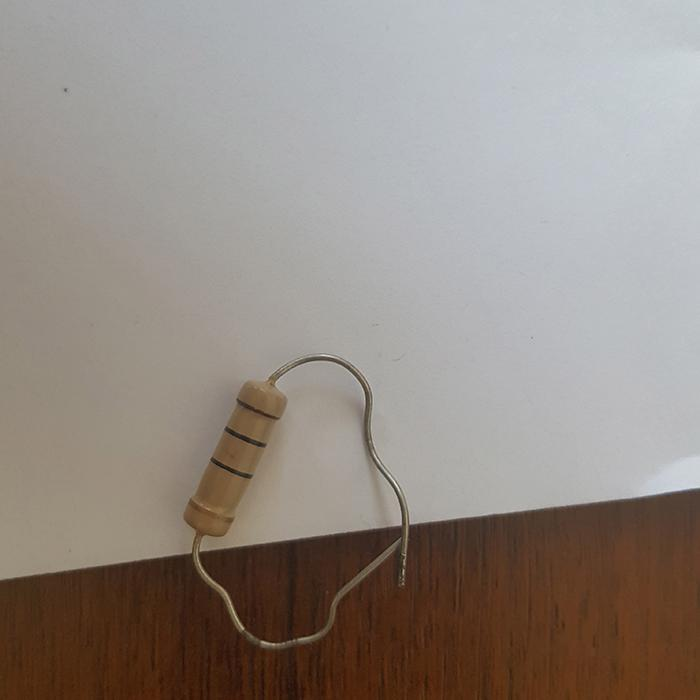resistor: (182, 378, 284, 536)
